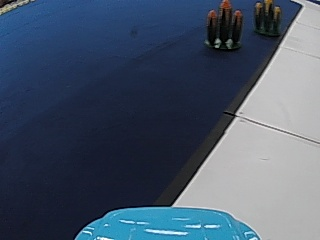corn: (204, 1, 244, 50), (251, 0, 282, 37)
